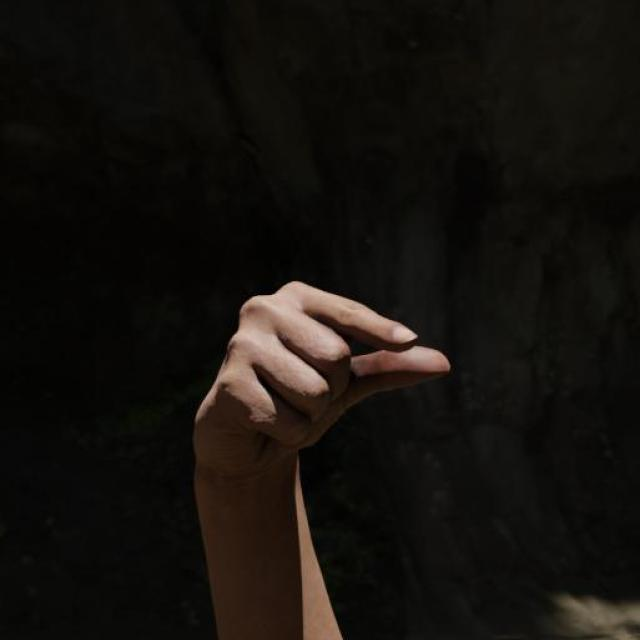G: (188, 276, 453, 483)
